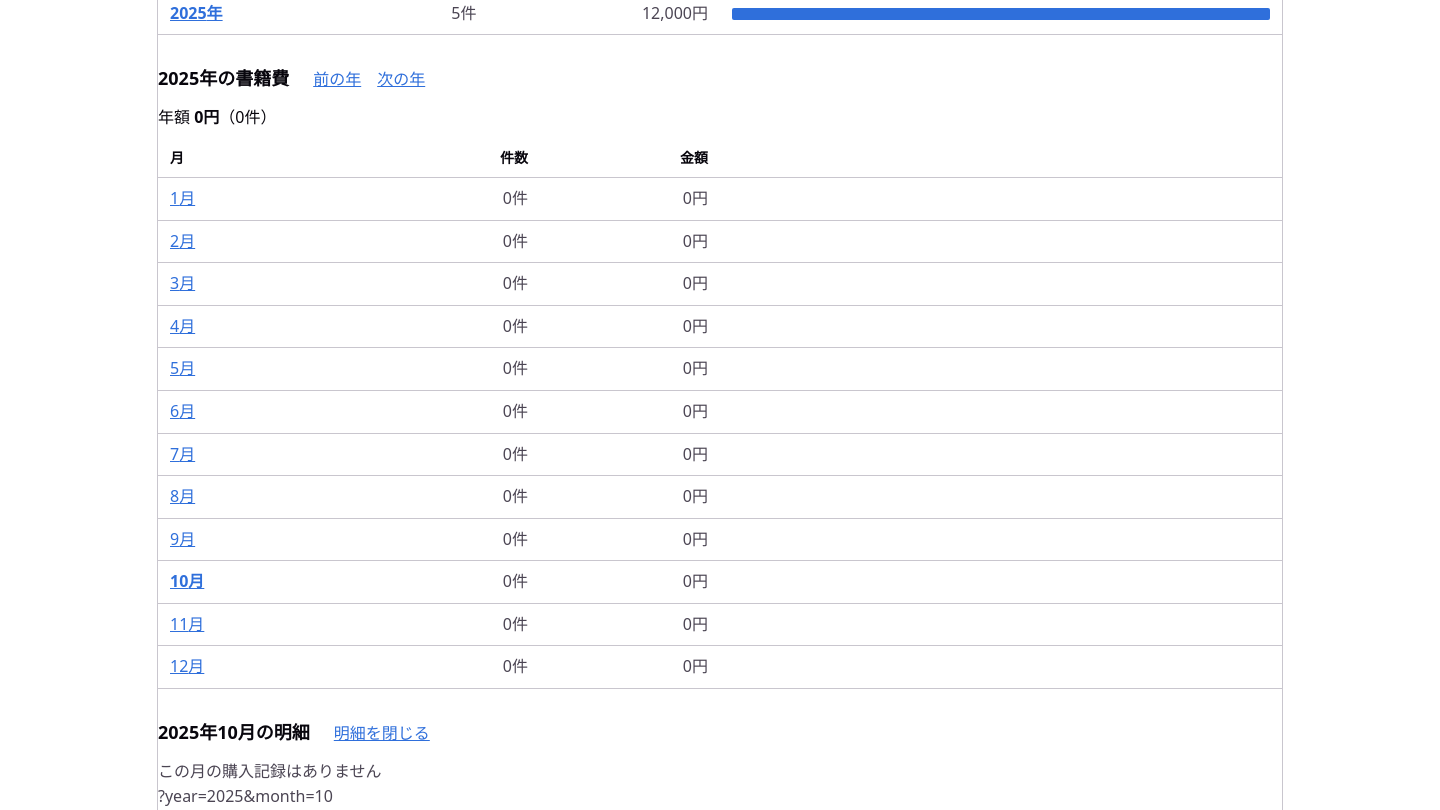
ExpensesPage › 月の明細 › 「明細を閉じる」で明細を閉じ、URLから月を外す
(page scrolled)
Click the link "明細を閉じる" at (382, 734), box [334,721,430,747]
(page scrolled)
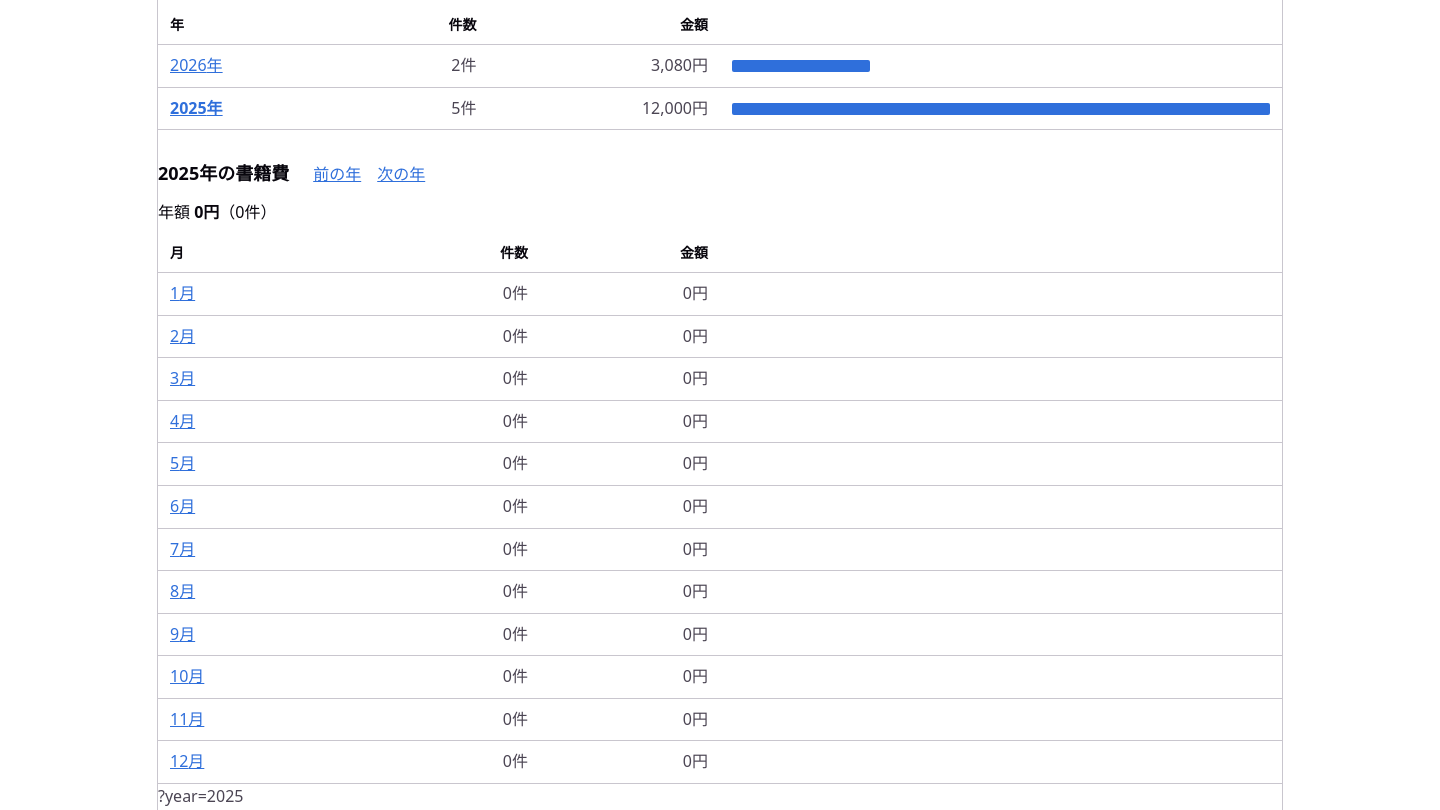
Expected: the text with test id "location-search" reads "?year=2025", [158,785,244,807]
Expected: the heading "の明細" is gone
